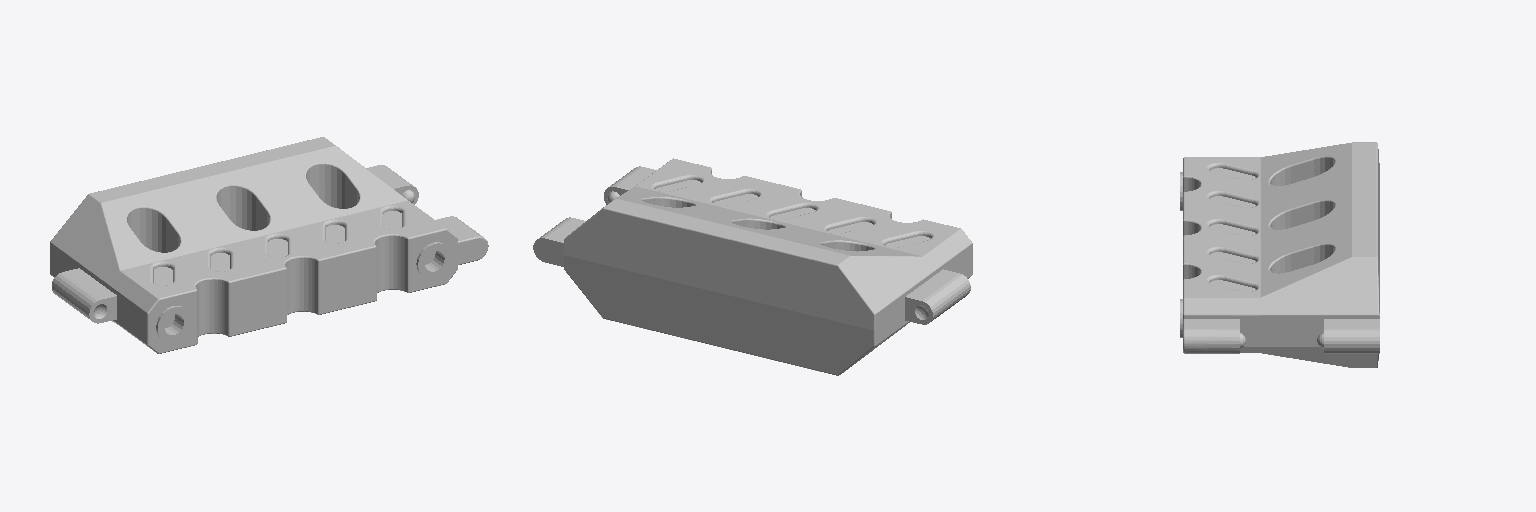
The model's file is hindernis.obj.
3 views of the same model, side by side, from view 1: azimuth 30°, elevation 25°; view 2: azimuth 150°, elevation 25°; view 3: azimuth 270°, elevation 25° (orthographic).
Parts seen in each view (by area): view 1: 24001; view 2: 24001; view 3: 24001.
Boxes of the visible parts, box(x1,y1,x2,y2) form: 24001: box(50, 137, 488, 353); 24001: box(533, 158, 972, 375); 24001: box(1180, 142, 1379, 367).
Bounding box in the file's own units: 0.132 × 0.038 × 0.062.